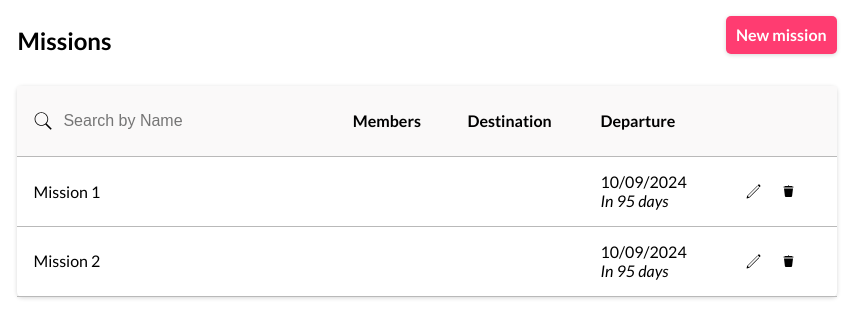
Test: Missions › deletes a mission and reloads the list
Click the 2nd button named "delete" at (788, 192), box left=771, top=174, right=806, bottom=209
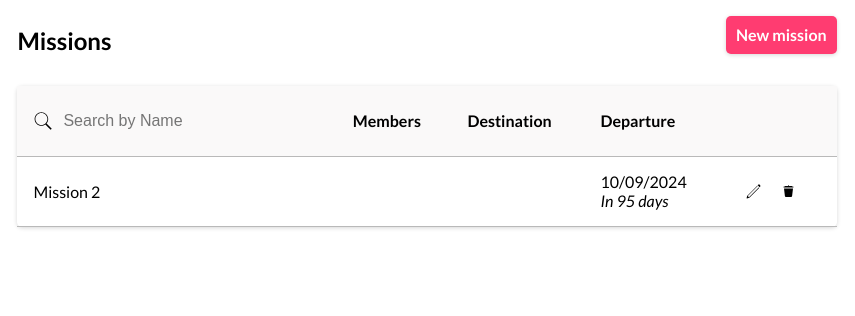
Expected: the text "Mission 2" is shown, left=17, top=157, right=337, bottom=227
Expected: the text "Mission 1" is gone
